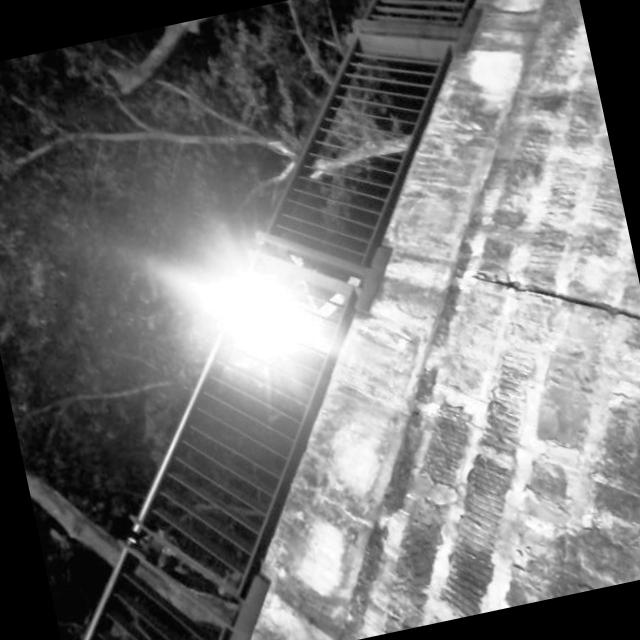Light: (85, 125, 484, 532)
